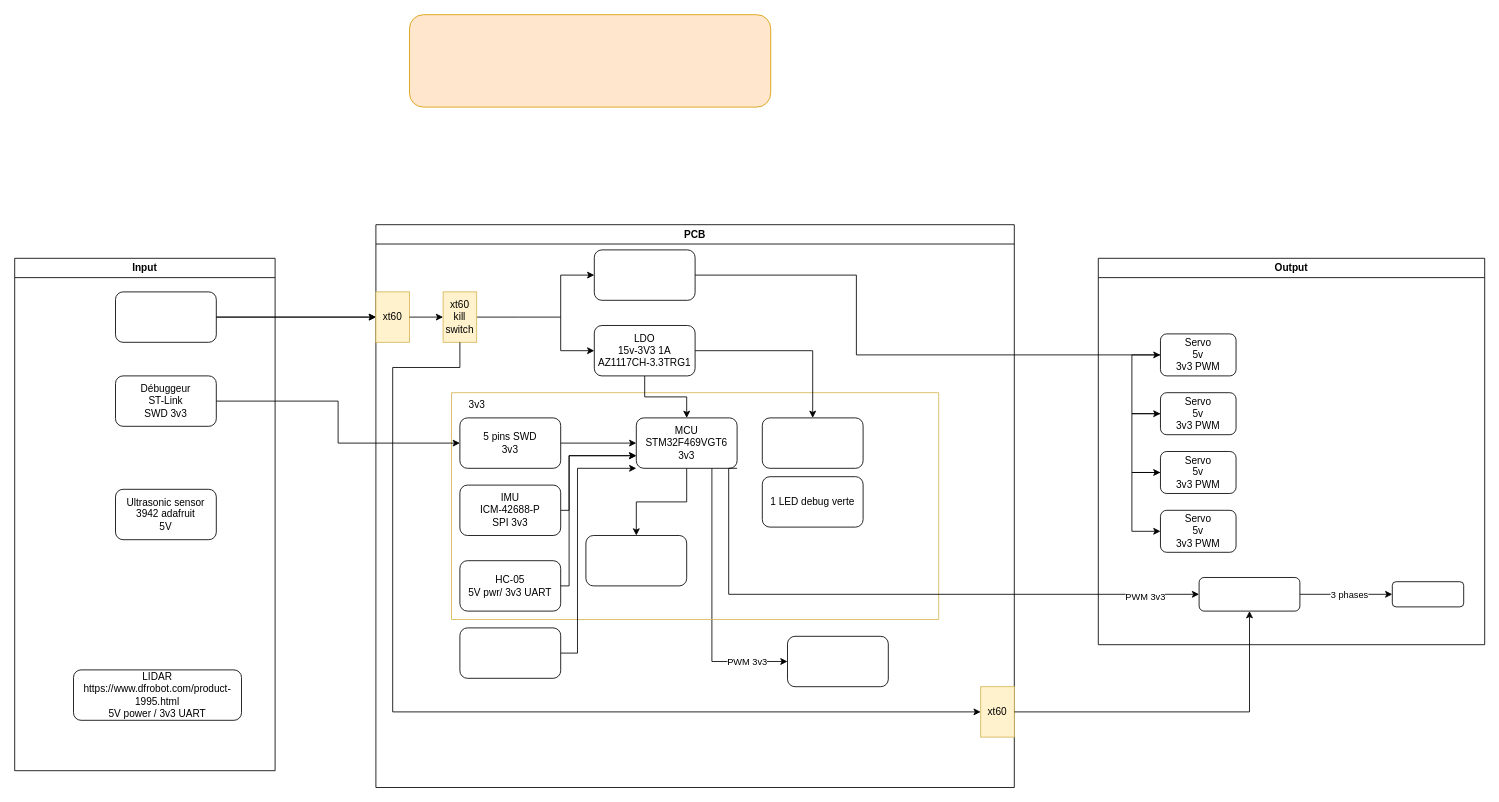
Image size: 1499x802. Some labels were removed from this diagram. The centre of each missing label's shape, as x and y in pixels:
3 pin uart 3v3: the point at 636,560
Ajouter un circuit de low voltage cutoff pour la V2: the point at 590,60
Batterie 4s 14.8V LiPO 2200 mAh: the point at 165,316
Buck 15v-5V 3A Xl4015 Amazon: the point at 644,274
Buzzer SMTB-0927-TW-R 5v: the point at 837,661
ESC 14v8 35 A: the point at 1249,594
IMU BNO055 I2C 3v3: the point at 510,652
LED bleu: the point at 812,442
Moteur 14v8 35A: the point at 1427,594
